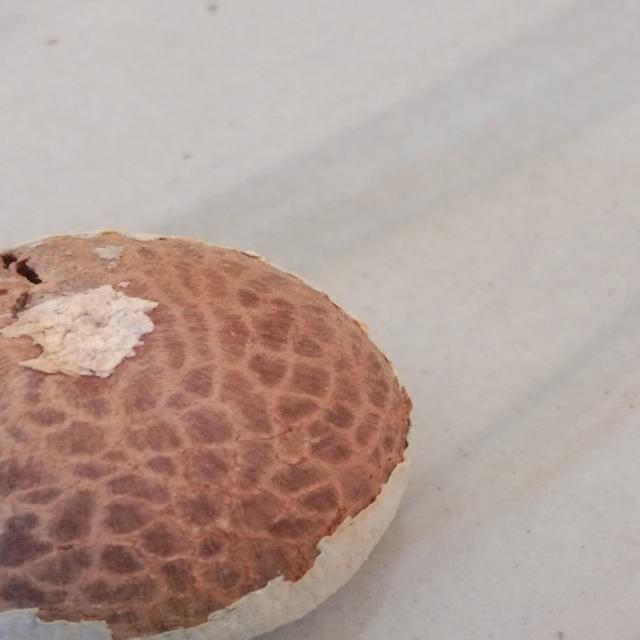phatora: (0, 213, 416, 640)
